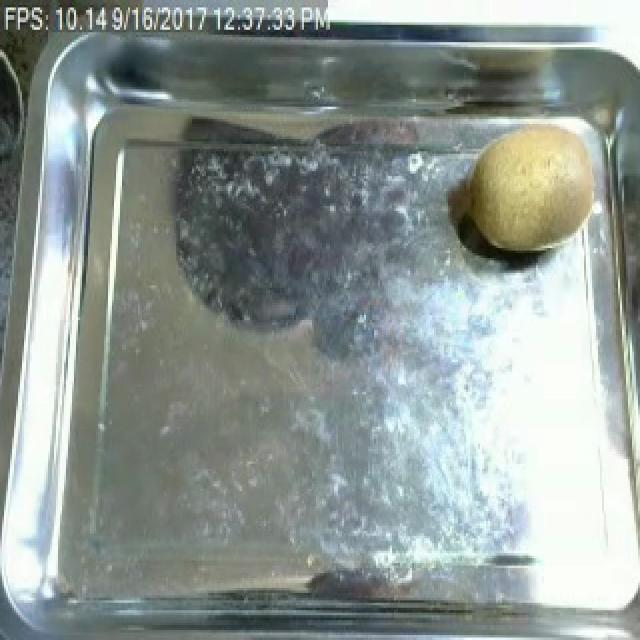Fruit: (458, 112, 608, 263)
